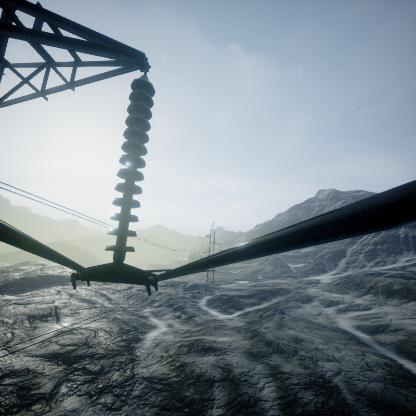insulator: (101, 73, 161, 262)
